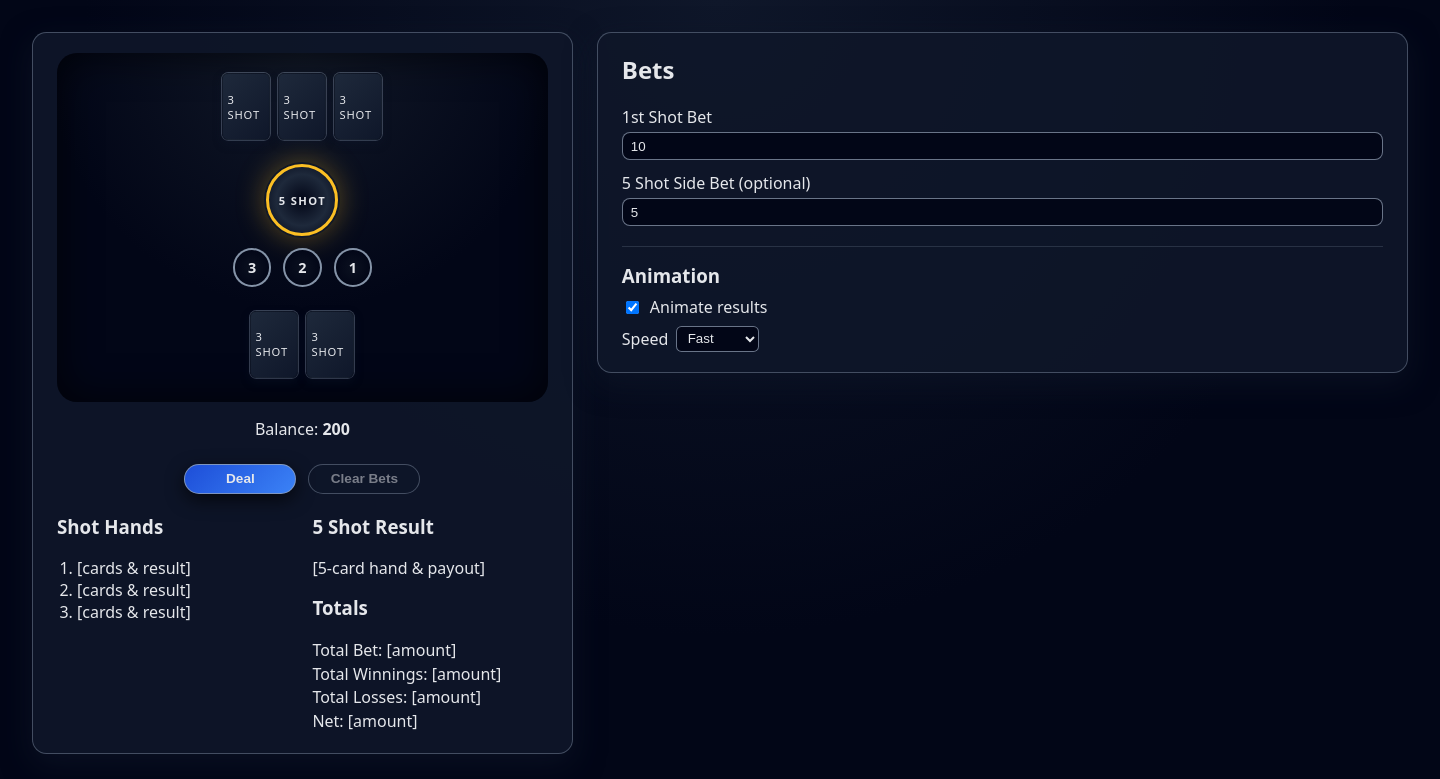
Test: GameLayout betting flow › shows bet validation errors and does not advance when amounts are invalid
Note: Set 1st Shot bet to 0, which is invalid.
Replace the text in the number field labelled "1st Shot Bet" with "0" at (1002, 146), box [622,132,1383,160]
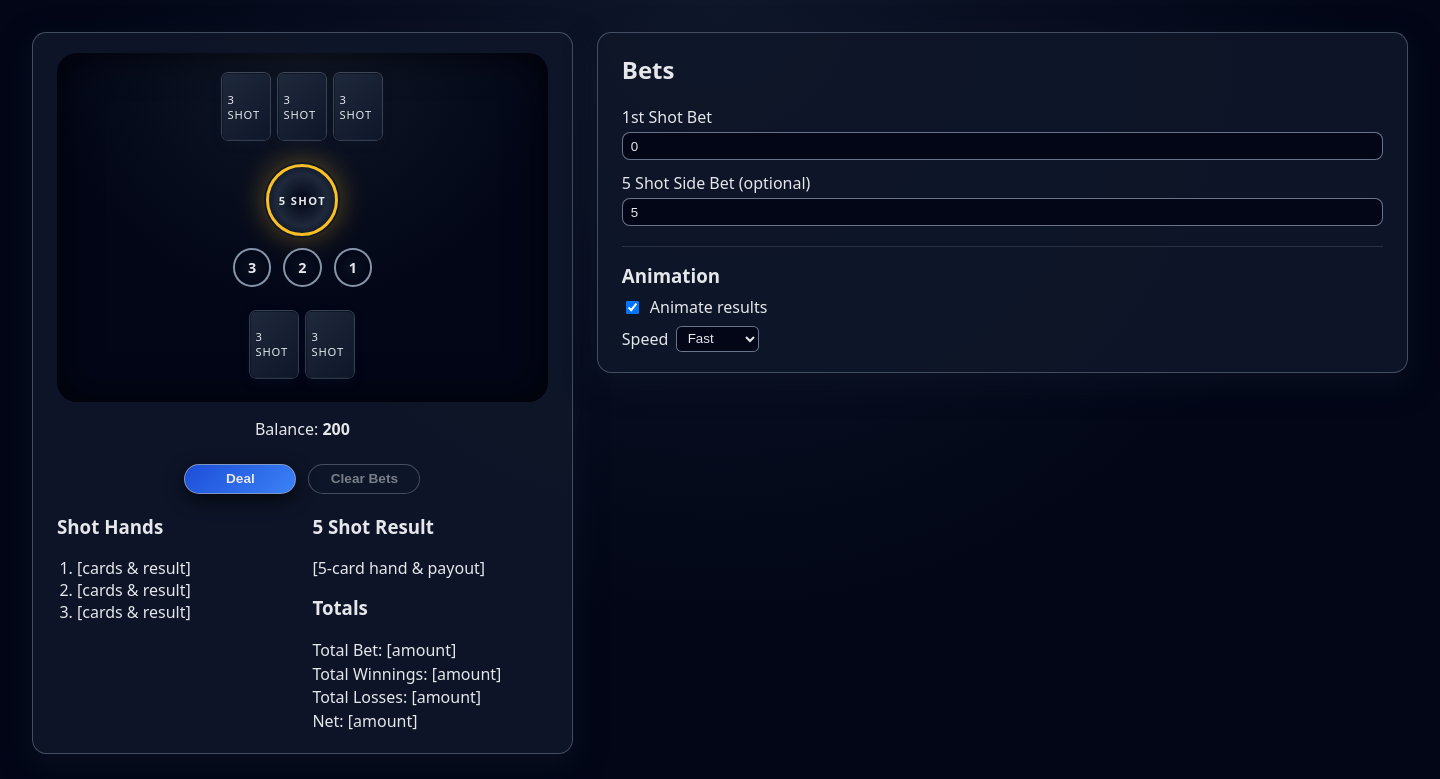
Click the button "Deal" at (240, 479), box [184,464,296,494]
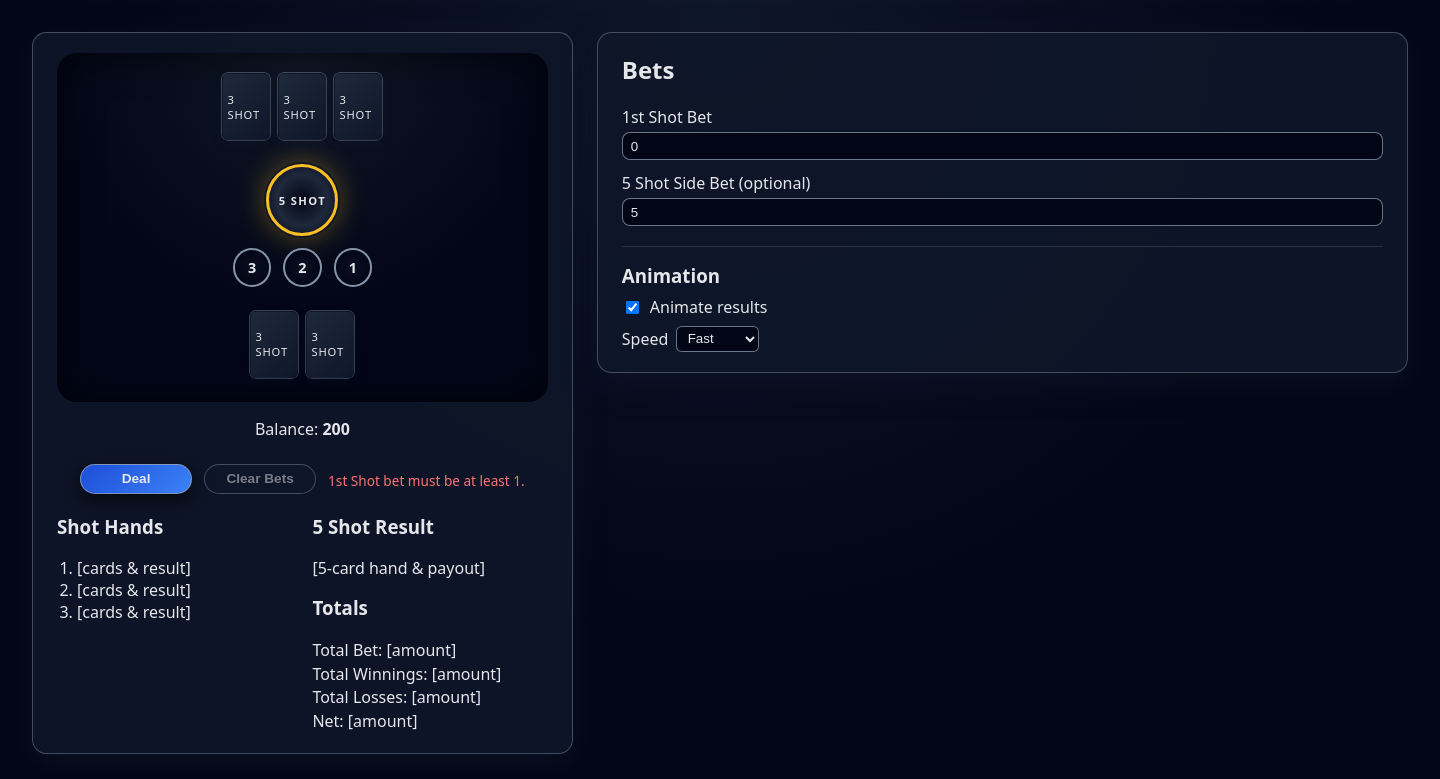
Check: the text "1st Shot bet must be at least 1." is shown, box [328,471,525,490]
